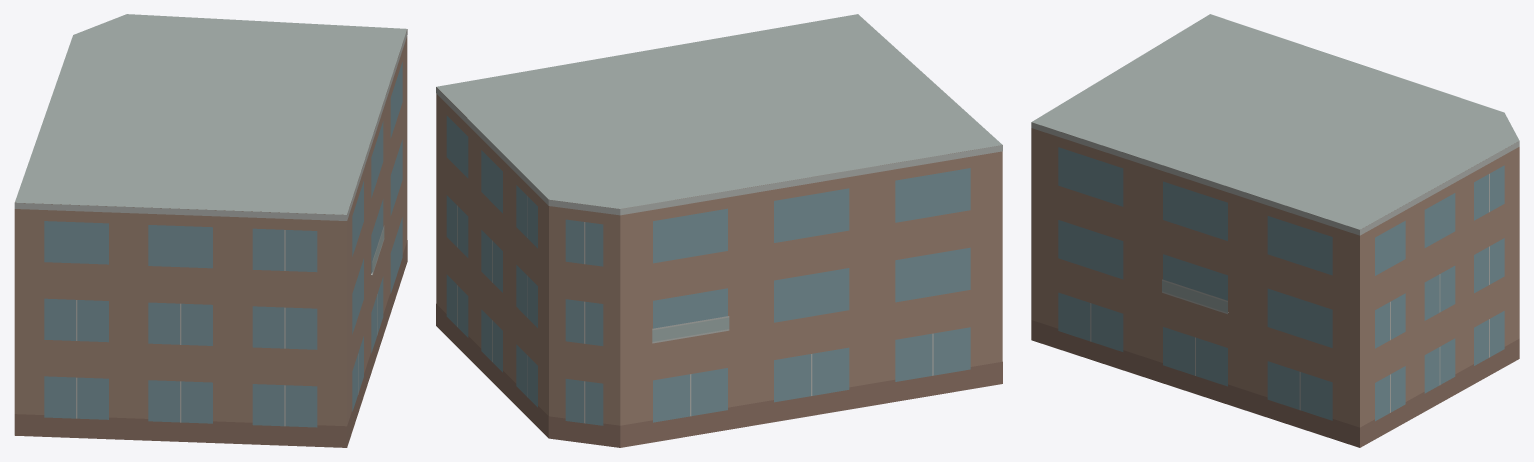
The model's file is survey-upis-32954301.glb.
3 renders of one model, left to right at view 1: azimuth 30°, elevation 25°; view 2: azimuth 150°, elevation 25°; view 3: azimuth 270°, elevation 25°, orthographic. The views are drawn at different scales.
Visible parts, largest first — view 1: survey-upis-32954301.tmp; view 2: survey-upis-32954301.tmp; view 3: survey-upis-32954301.tmp.
Part boxes in pixels (x1,y1,x2,y2): survey-upis-32954301.tmp: (14, 14, 407, 447); survey-upis-32954301.tmp: (436, 14, 1002, 447); survey-upis-32954301.tmp: (1031, 14, 1519, 447).
Size of the model in its own units: 19.44 by 9.15 by 18.58.
